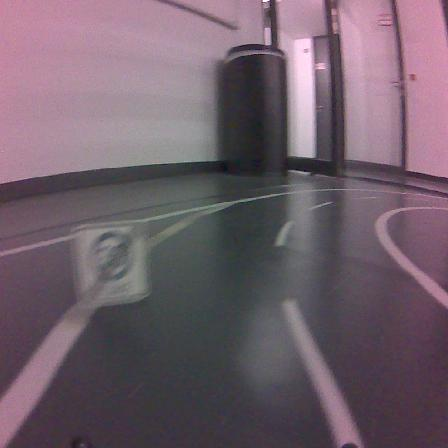30_ZONE_END: (73, 219, 150, 306)
